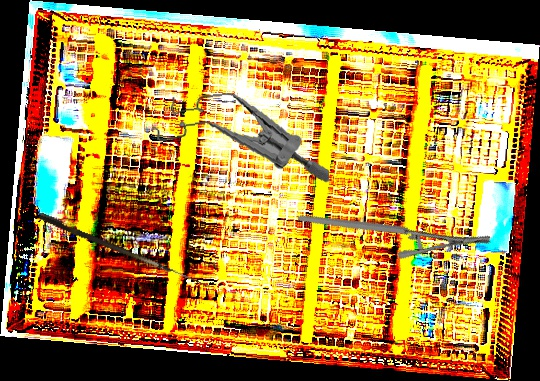Hook Surgical: (37, 212, 213, 288)
Needle Holder: (296, 156, 494, 301)
Speculum: (147, 78, 331, 203)
